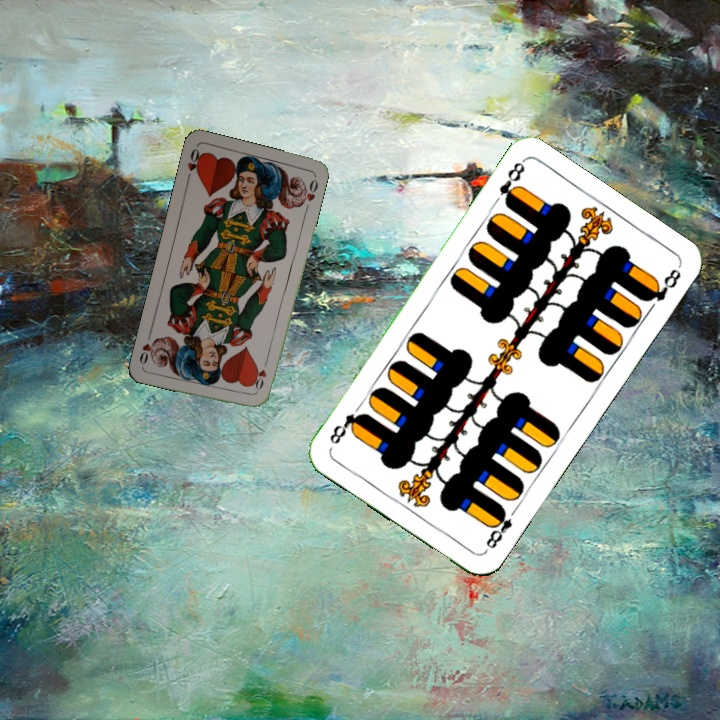E8: (481, 503, 520, 552), (495, 157, 528, 210)
HO: (183, 144, 205, 184), (251, 355, 270, 395)
